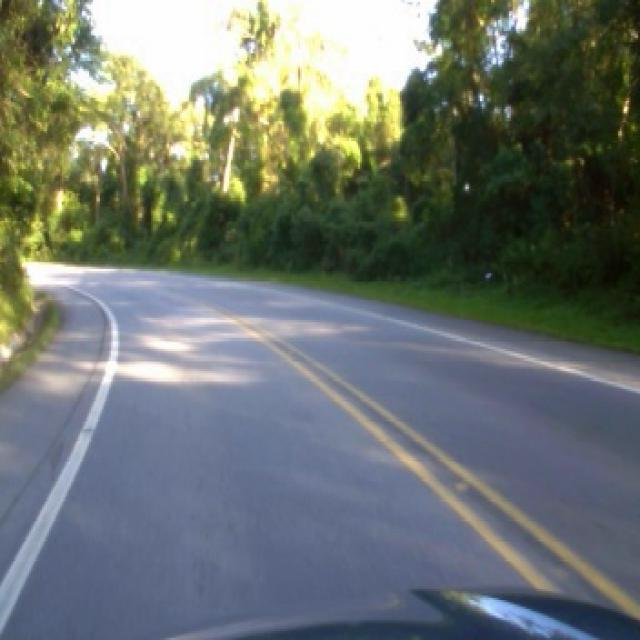Poth-hole: (456, 478, 471, 489)
